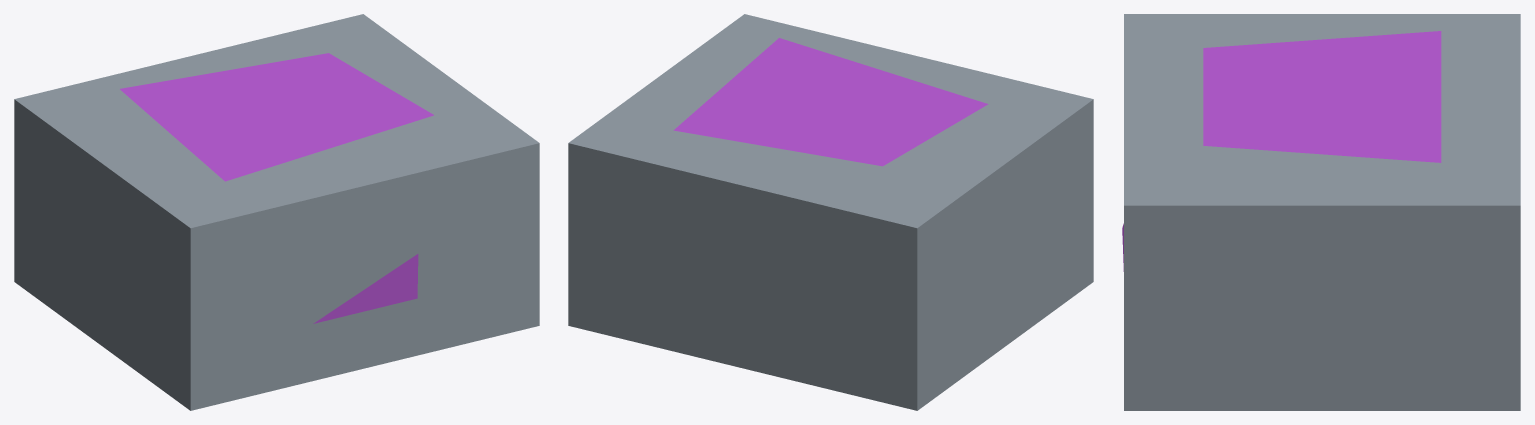
The model's file is CH_MCV_MobileArk_LOD1.glb.
3 renders of one model, left to right at view 1: azimuth 30°, elevation 25°; view 2: azimuth 150°, elevation 25°; view 3: azimuth 270°, elevation 25°, orthographic. The views are drawn at different scales.
Parts seen in each view (by area): view 1: EntranceGate; view 2: EntranceGate; view 3: EntranceGate.
Boxes of the visible parts, x1,y1,x2,y2 form: EntranceGate: (14, 14, 539, 410); EntranceGate: (568, 14, 1093, 410); EntranceGate: (1122, 14, 1520, 410).
Bounding box in the file's own units: 800 × 442 × 703.
